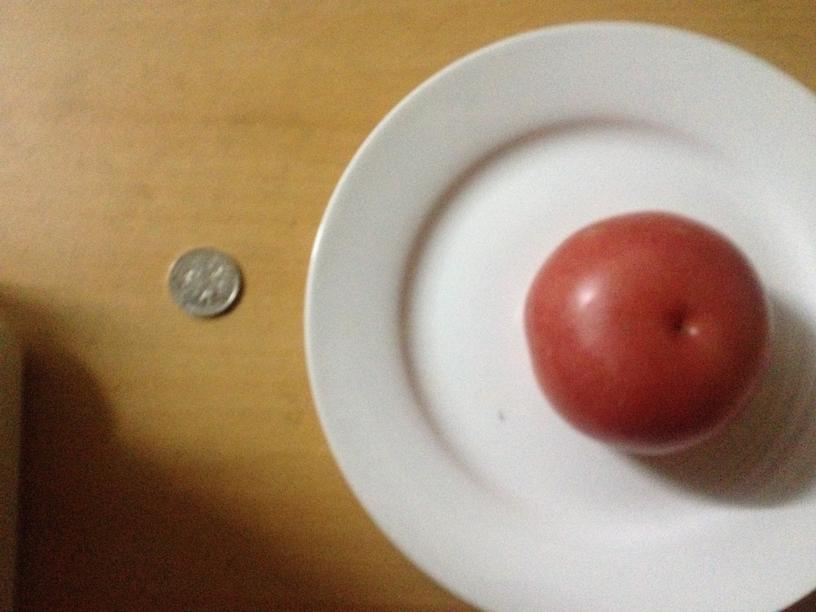coin: (165, 246, 244, 315)
tomato: (524, 205, 767, 455)
